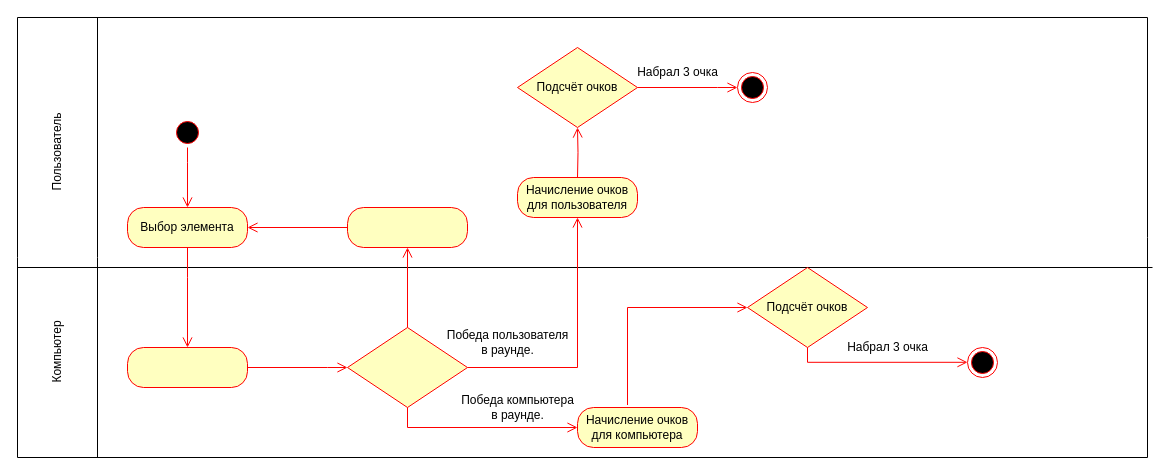
Image size: 1171x476. Some labels were removed from this diagram. Here are the shapes that lost their labels. From the top down, the centre of each, then its label:
pixel 407 227: Ничья
pixel 187 367: Случайный элемент
pixel 407 367: Определение победителя
